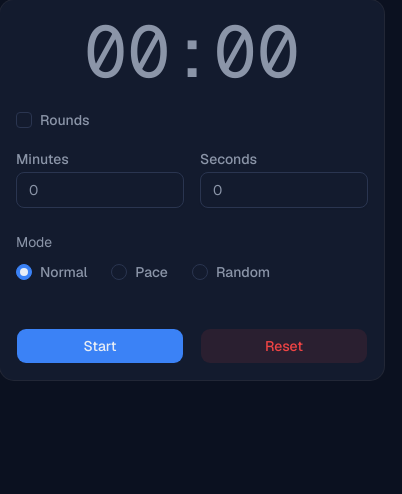
Timer — random cue (BPR-005) › 5.2 Min/Max inputs render only in Random mode
Expected: the field labelled "Min (sec)" is not shown
Click the radio button named "Pace" next to "Pace": [119, 272] box x1=111 y1=264 x2=127 y2=280
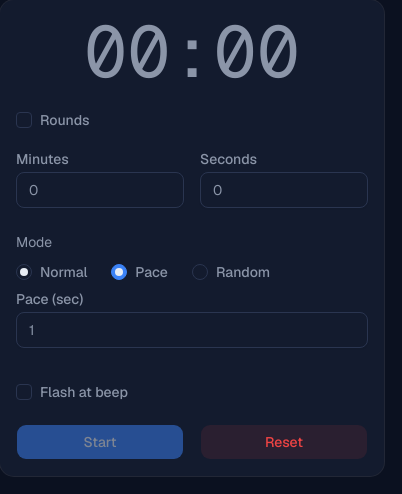
Expected: the field labelled "Min (sec)" is not shown
Click the radio button named "Random" next to "Random": [200, 272] box x1=192 y1=264 x2=208 y2=280
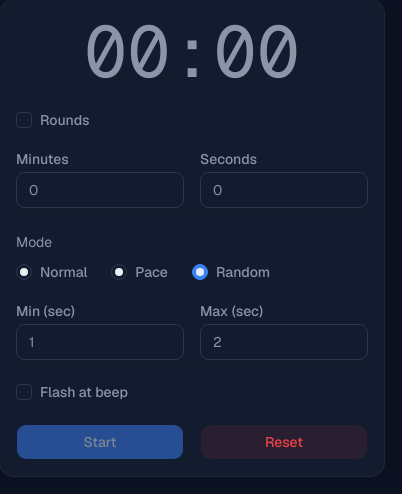
Result: the number field labelled "Min (sec)" is enabled at x1=16 y1=324 x2=184 y2=360
Result: the number field labelled "Max (sec)" is enabled at x1=200 y1=324 x2=368 y2=360
